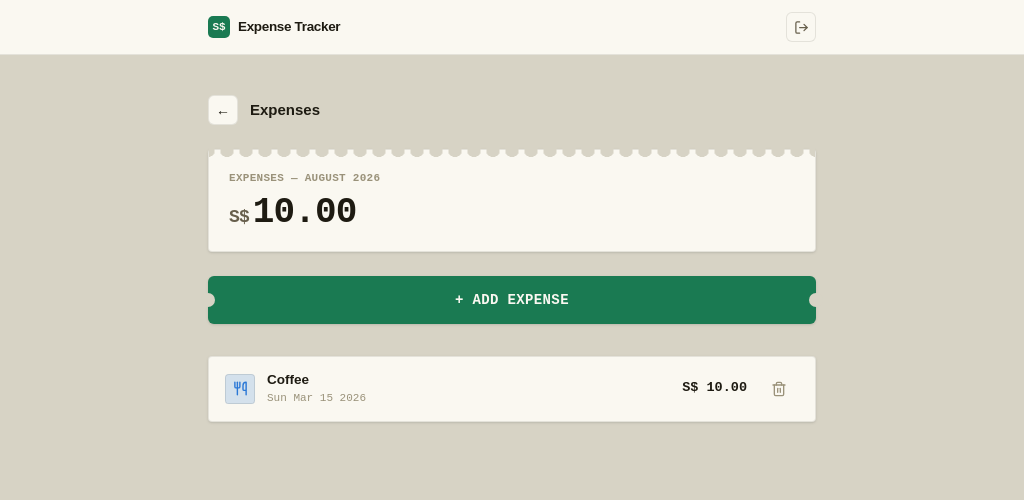
ListExpensePage › removes an expense and shows a success message
The image size is (1024, 500).
Click the button named "Delete expense" at (779, 388), box [759, 368, 799, 408]
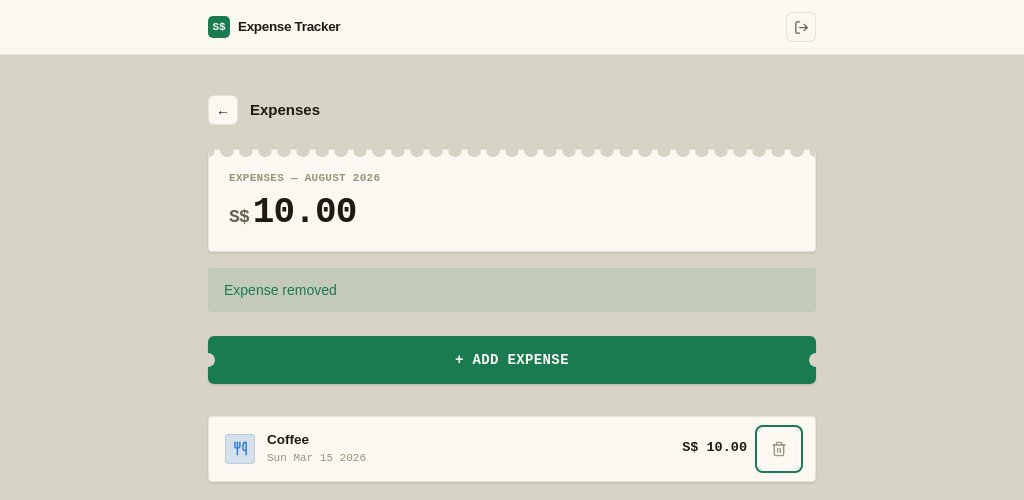
Result: the text "Expense removed" is shown at [208, 268, 816, 312]
